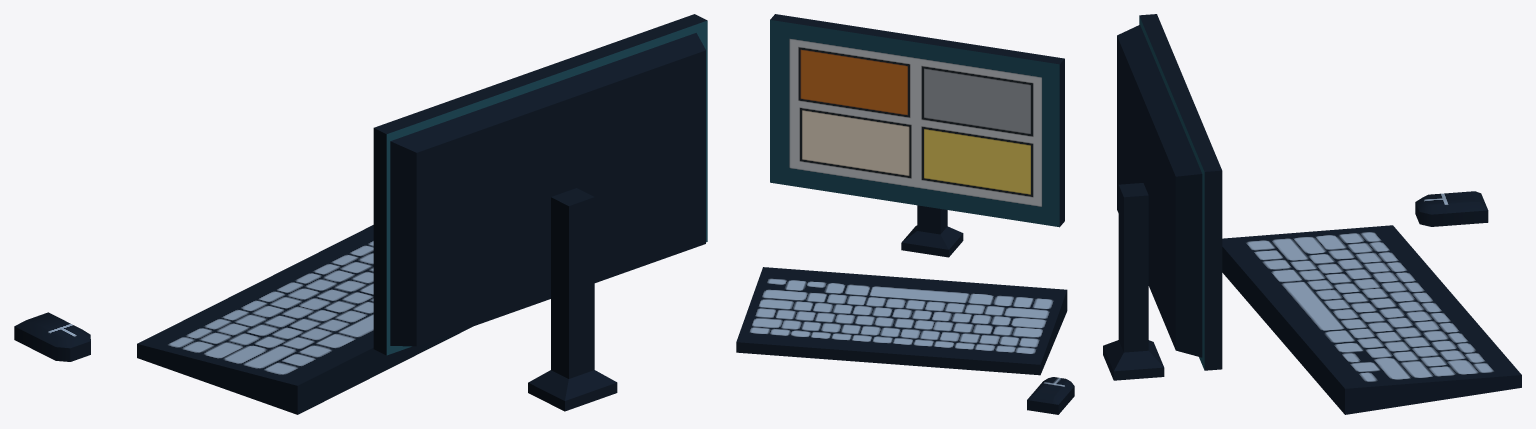
The model's file is Ordinateur.FBX.
The picture shows the model from 3 angles, left to right: view 1: azimuth 30°, elevation 25°; view 2: azimuth 150°, elevation 25°; view 3: azimuth 270°, elevation 25°; orthographic projection. The views are drawn at different scales.
Visible parts, largest first — view 1: Ordinateur; view 2: Ordinateur; view 3: Ordinateur.
Part boxes in pixels (x1,y1,x2,y2): Ordinateur: [14, 14, 707, 414]; Ordinateur: [736, 14, 1074, 414]; Ordinateur: [1103, 14, 1521, 414].
Bounding box in the file's own units: 0.8196 × 0.4374 × 0.6139.
